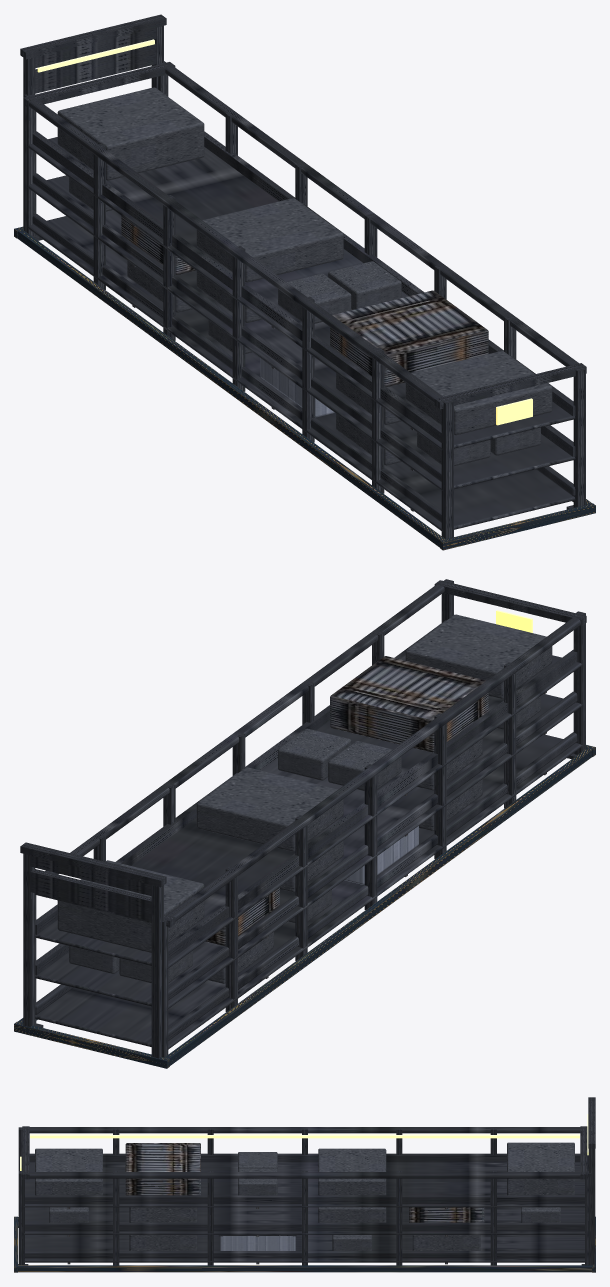
Rendered from warehouse_rack_west.glb.
The picture shows the model from 3 angles, top to bottom: view 1: azimuth 30°, elevation 25°; view 2: azimuth 150°, elevation 25°; view 3: azimuth 270°, elevation 25°; orthographic projection. The views are drawn at different scales.
Parts seen in each view (by area): view 1: deck2, deck0, deck1, case2_1, crate2_5, crate2_3, sight_shell, crate2_0, beam2_-1, shelltoes0, capRail0, capRail2 (+25 smaller); view 2: deck2, deck0, sight_shell, deck1, case2_1, crate2_3, crate2_0, beam2_-1, shelltoes0, capRail0, capRail2, beam1_-1 (+22 smaller); view 3: deck2, deck0, deck1, beam1_1, beam2_1, shelltoes2, beam0_1, capRail2, capRail0, case2_1, crate2_5, crate2_3 (+24 smaller).
Boxes of the visible parts, x1,y1,x2,y2 form: deck2: (27, 137, 574, 449); deck0: (27, 216, 575, 531); deck1: (27, 175, 575, 490); case2_1: (330, 290, 488, 386); crate2_5: (57, 87, 204, 180); crate2_3: (196, 198, 343, 282); sight_shell: (20, 14, 166, 227); crate2_0: (405, 351, 552, 435); beam2_-1: (32, 131, 441, 442); shelltoes0: (17, 229, 446, 547); capRail0: (27, 96, 443, 407); capRail2: (163, 63, 584, 368); deck2: (35, 655, 582, 968); deck0: (35, 734, 582, 1049); sight_shell: (20, 842, 166, 1058); deck1: (35, 694, 582, 1008); case2_1: (330, 656, 488, 752); crate2_3: (196, 767, 343, 851); crate2_0: (405, 614, 552, 698); beam2_-1: (168, 649, 577, 960); shelltoes0: (164, 748, 592, 1065); capRail0: (164, 615, 582, 926); capRail2: (45, 581, 446, 874); beam1_-1: (168, 691, 577, 1000); deck2: (23, 1162, 586, 1207); deck0: (23, 1235, 586, 1262); deck1: (23, 1207, 586, 1234); beam1_1: (25, 1222, 584, 1231); beam2_1: (25, 1195, 584, 1203); shelltoes2: (17, 1265, 592, 1272); beam0_1: (25, 1251, 584, 1258); capRail2: (21, 1172, 588, 1178); capRail0: (23, 1127, 586, 1133); case2_1: (125, 1143, 200, 1195); crate2_5: (507, 1142, 574, 1195); crate2_3: (318, 1148, 386, 1195).
Size of the model in its own units: 1.46 by 1.7 by 7.09.
Materials: 9 (7 with a texture image).
